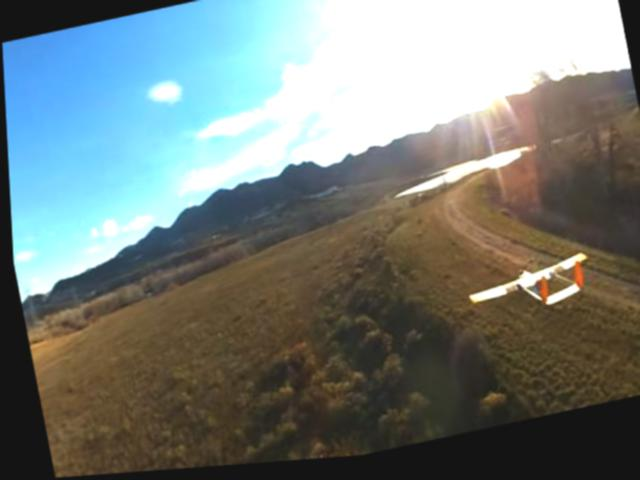uav: (458, 255, 594, 333)
